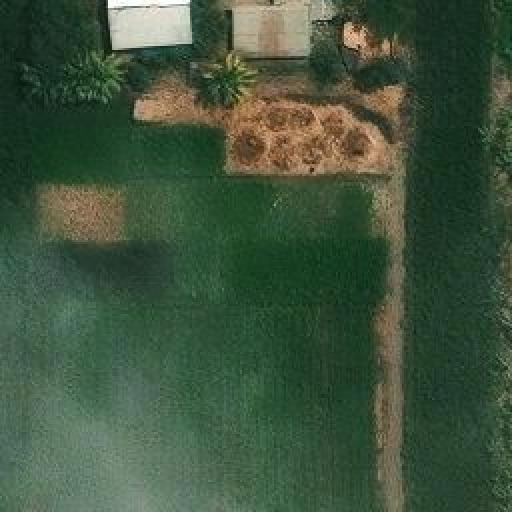manzanas: (224, 0, 341, 71), (108, 0, 197, 53)
